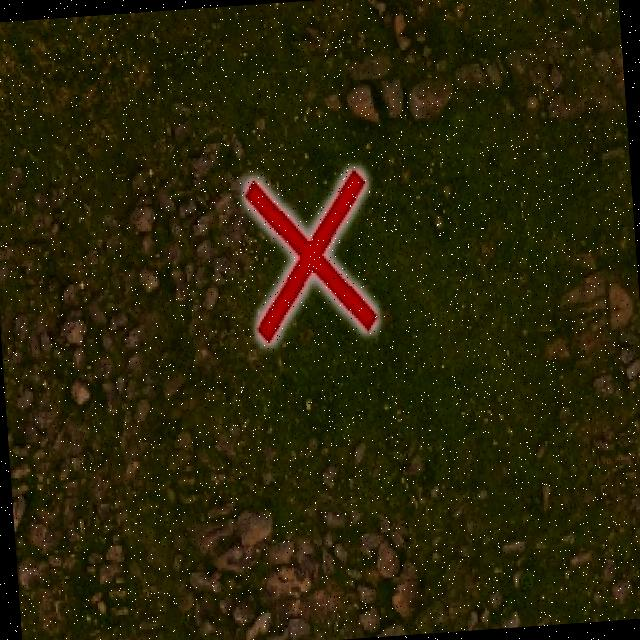x_marker: (243, 168, 376, 342)
